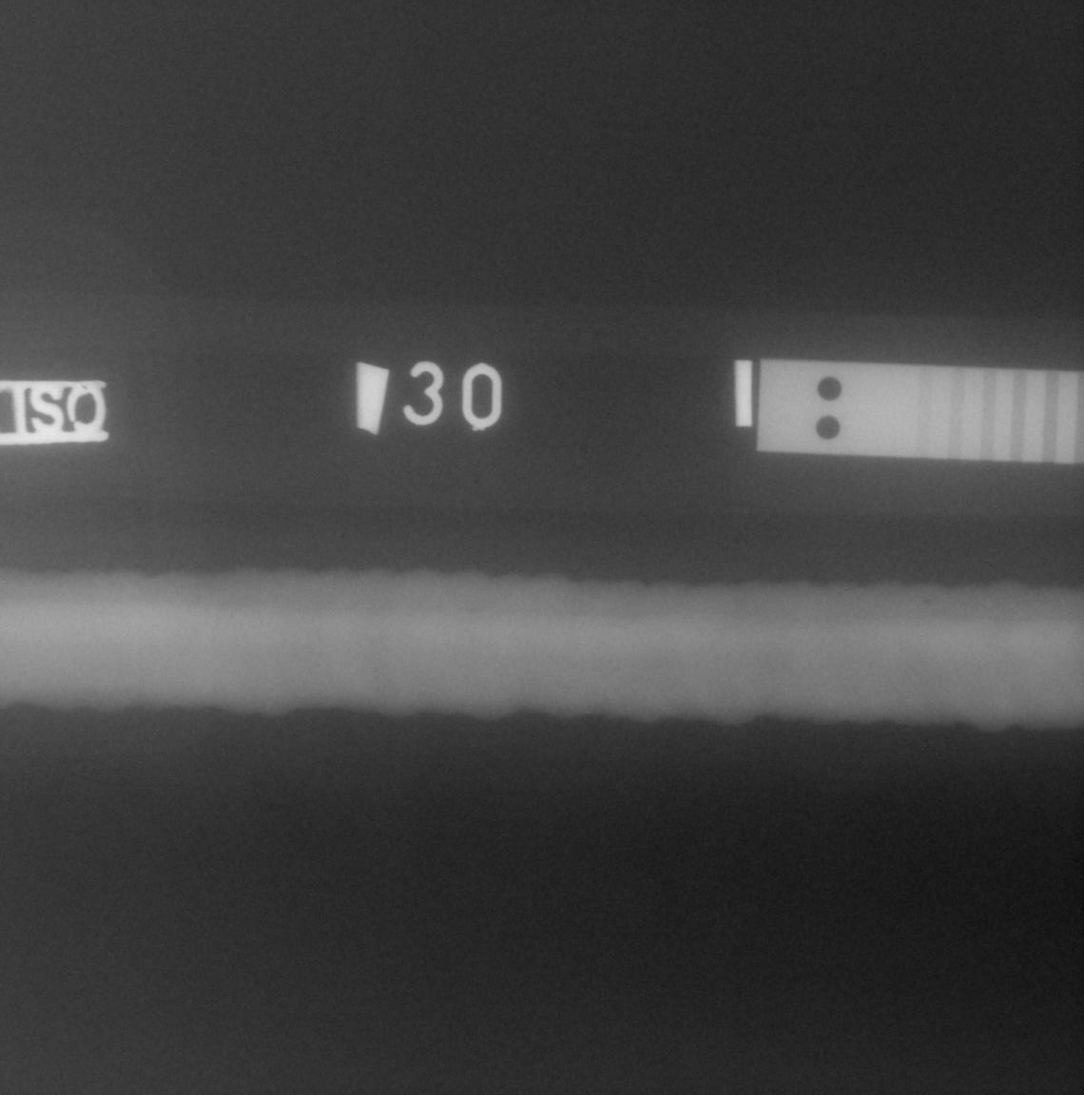Pore/Porosity: (921, 598, 932, 607)
